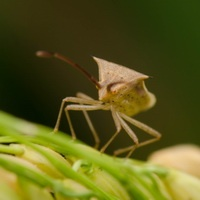insect: (36, 51, 160, 157)
